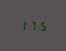five: (37, 20, 45, 31)
one: (18, 19, 26, 30)
seven: (28, 19, 36, 31)
